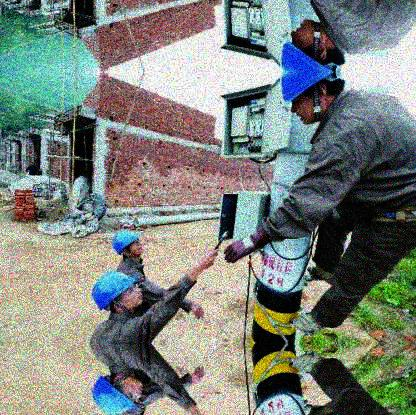helmet: (279, 20, 345, 74), (279, 75, 346, 125), (91, 274, 143, 316), (112, 229, 145, 263)
